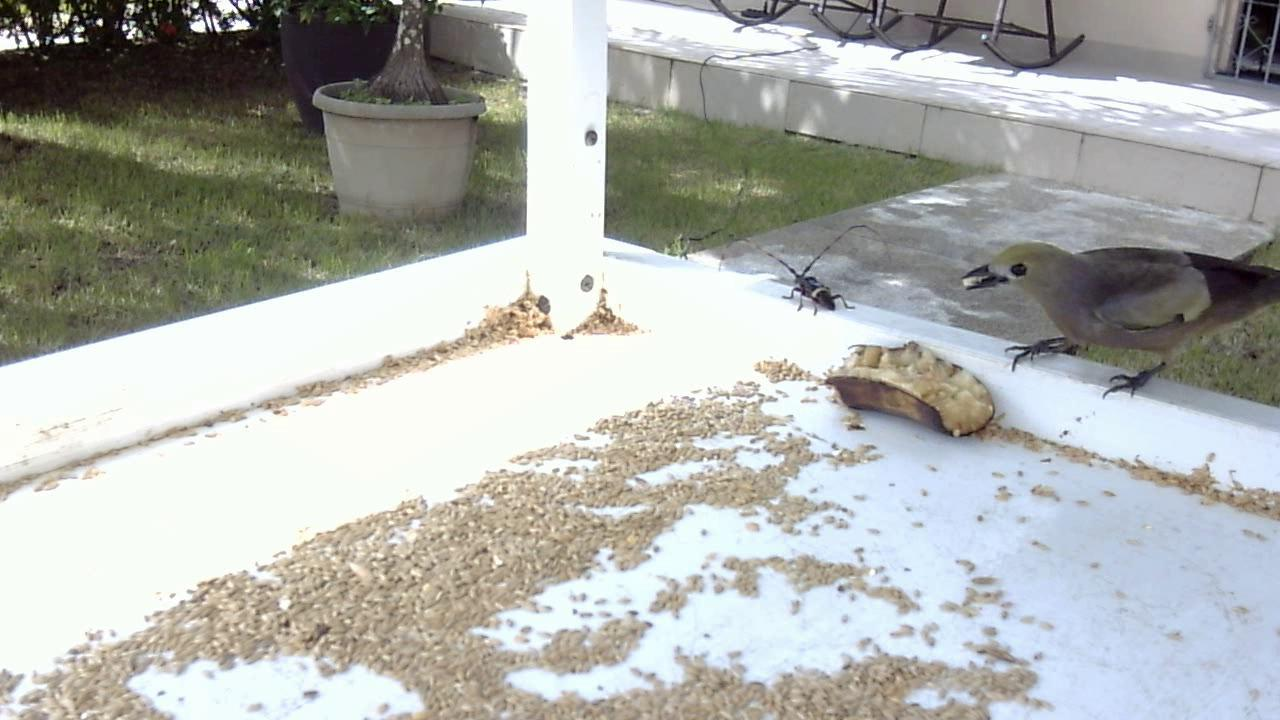sanhaco_do_coqueiro: (952, 226, 1276, 414)
